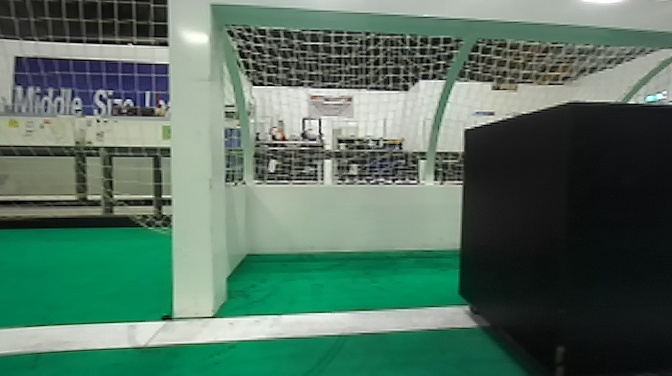goalpost: (166, 4, 223, 323)
